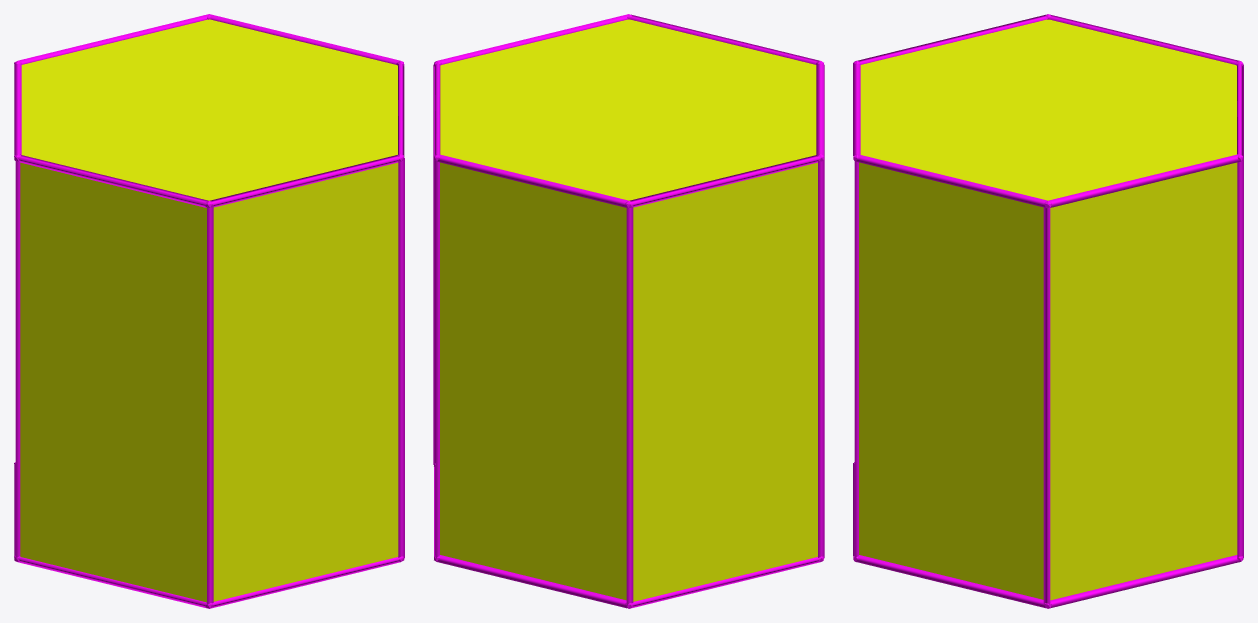
The model's file is hexagono_caras.glb.
The picture shows the model from 3 angles, left to right: view 1: azimuth 30°, elevation 25°; view 2: azimuth 150°, elevation 25°; view 3: azimuth 270°, elevation 25°; orthographic projection.
Visible parts, largest first — view 1: Hexagono, caras; view 2: Hexagono, caras; view 3: Hexagono, caras.
Part boxes in pixels (<box>): Hexagono: <box>20,19,398,602</box>; caras: <box>14,14,404,608</box>; Hexagono: <box>440,19,817,601</box>; caras: <box>433,14,824,608</box>; Hexagono: <box>859,19,1237,600</box>; caras: <box>853,14,1243,608</box>.
Bounding box in the file's own units: 0.7756 × 0.7772 × 0.6741.
